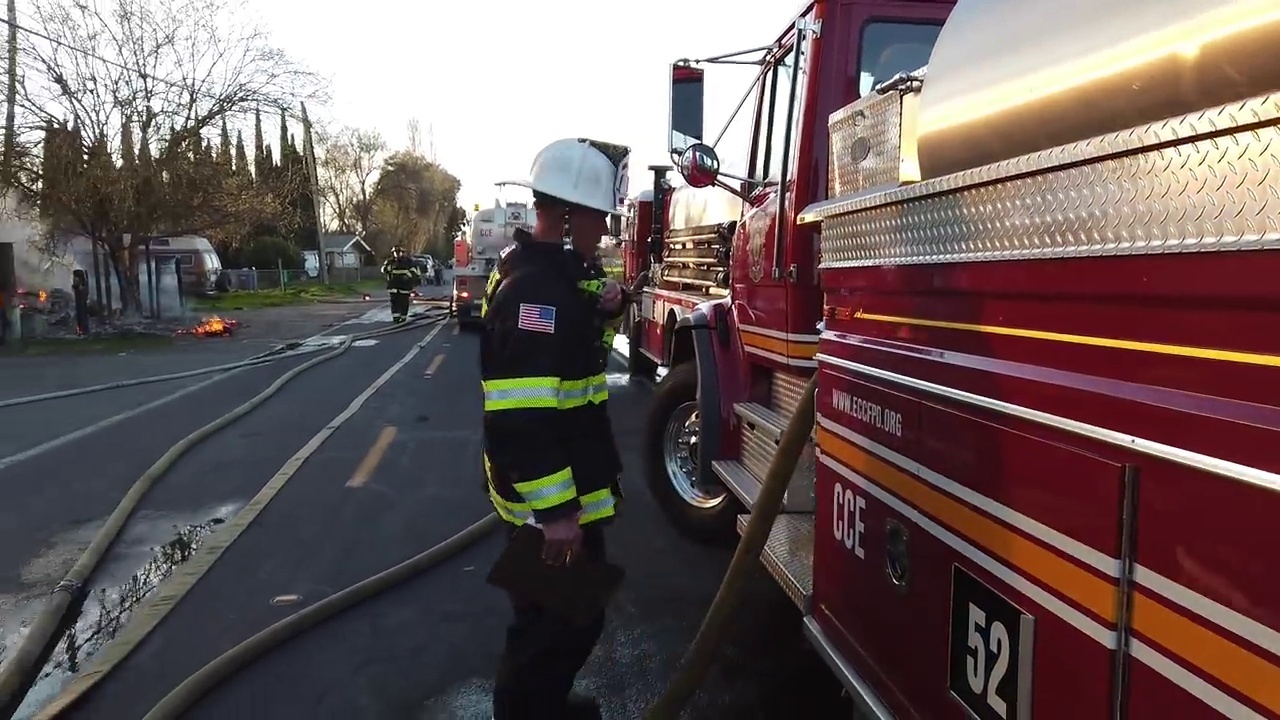fire: (190, 316, 231, 332), (38, 286, 49, 307), (17, 284, 27, 295), (14, 303, 25, 310)
smoke: (1, 200, 216, 285), (122, 282, 226, 316)
